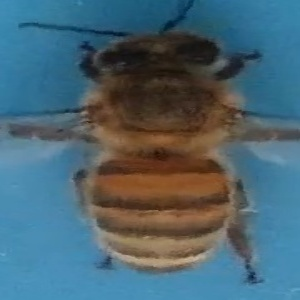bee: (32, 13, 287, 288)
